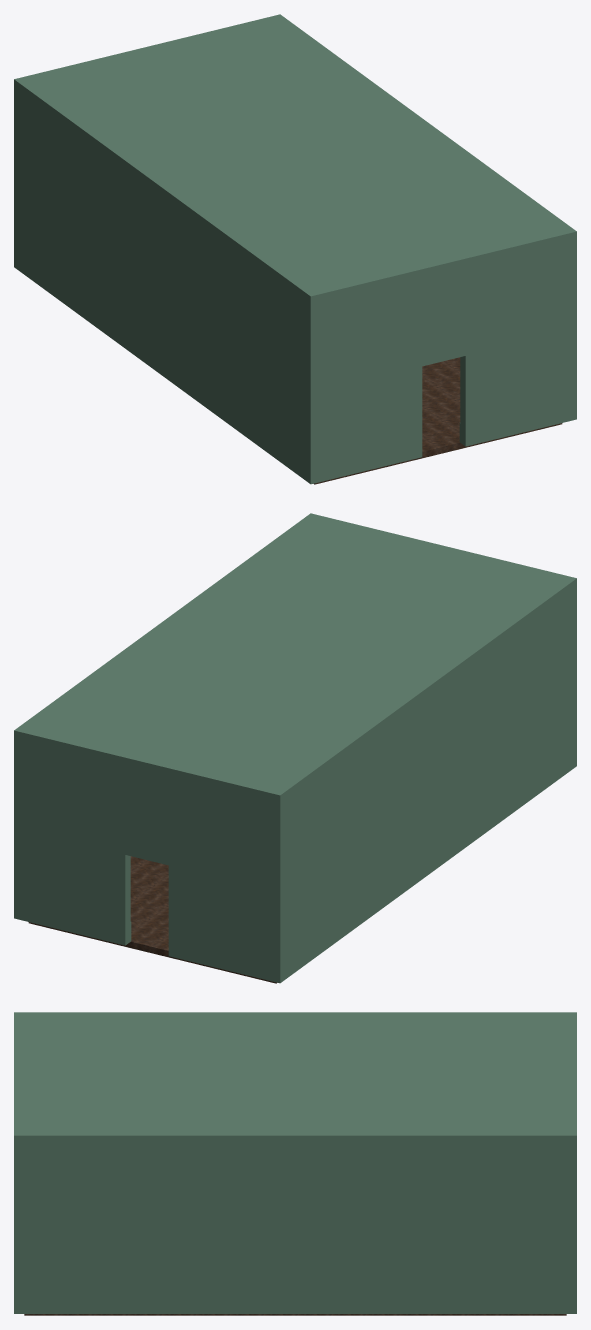
Rendered from munal_gallery.glb.
3 views of the same model, one above another, from view 1: azimuth 30°, elevation 25°; view 2: azimuth 150°, elevation 25°; view 3: azimuth 270°, elevation 25° (orthographic). The views are drawn at different scales.
Visible parts, largest first — view 1: Architecture_Room; view 2: Architecture_Room; view 3: Architecture_Room.
Part boxes in pixels (<box>): Architecture_Room: <box>14,14,576,484</box>; Architecture_Room: <box>14,513,576,983</box>; Architecture_Room: <box>14,1012,576,1315</box>.
Size of what is drawn, in the model's own units: 8.6 by 6 by 16.6.
11 materials, 9 textured.
